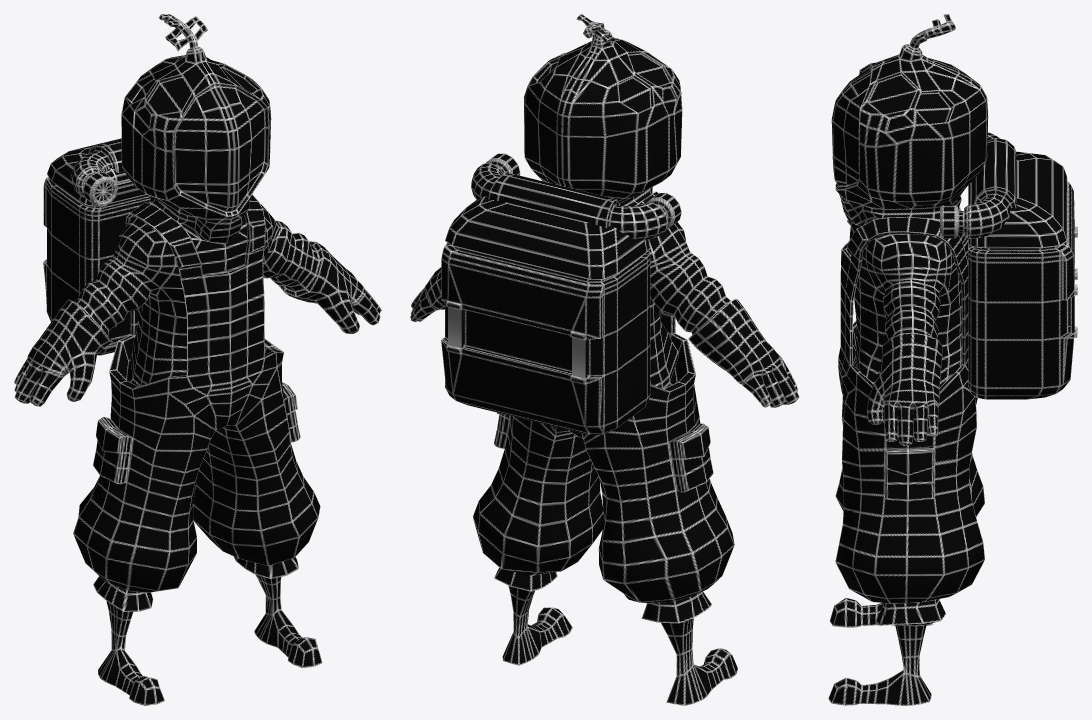
Rendered from Main_Char_F.fbx.
The picture shows the model from 3 angles, left to right: view 1: azimuth 30°, elevation 25°; view 2: azimuth 150°, elevation 25°; view 3: azimuth 270°, elevation 25°; orthographic projection. The views are drawn at different scales.
Visible parts, largest first — view 1: pCylinder13; view 2: pCylinder13; view 3: pCylinder13.
Part boxes in pixels (bbox=[...]): pCylinder13: bbox=[14, 14, 381, 705]; pCylinder13: bbox=[410, 14, 799, 705]; pCylinder13: bbox=[828, 14, 1077, 705].
Bounding box in the file's own units: 45.24 × 74.86 × 26.48.
